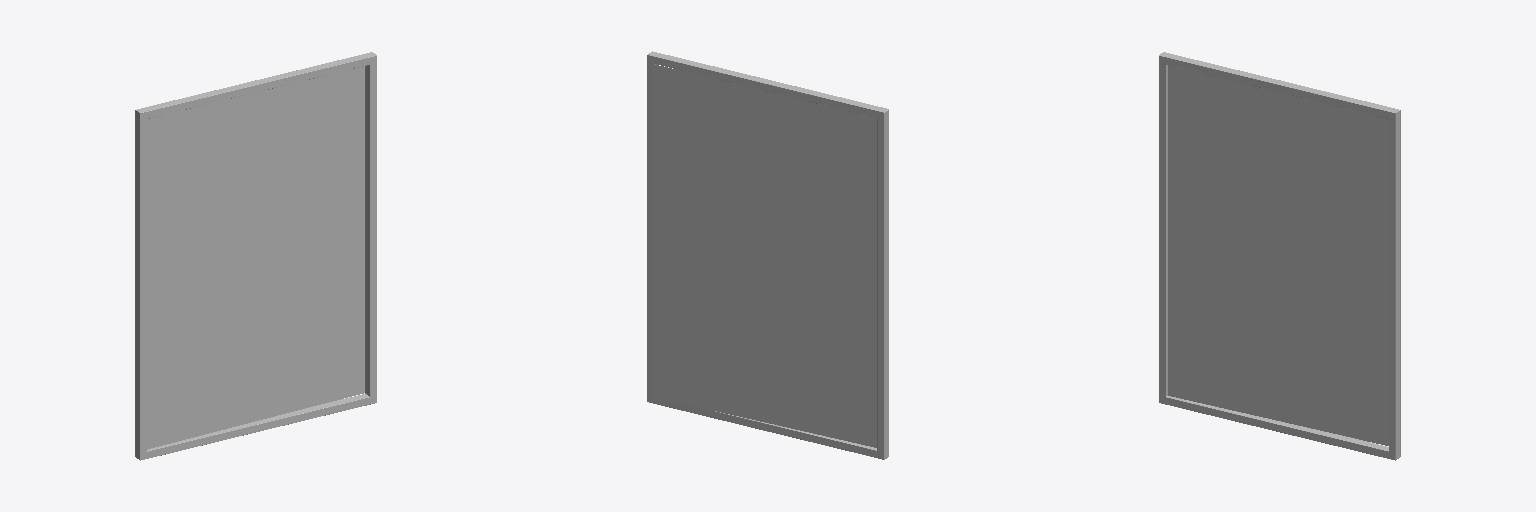
Rendered from avatar.obj.
3 renders of one model, left to right at view 1: azimuth 30°, elevation 25°; view 2: azimuth 150°, elevation 25°; view 3: azimuth 330°, elevation 25°, orthographic.
Visible parts, largest first — view 1: Assembly_Tom_Pigeon_Multi_Gold_Foil_50x70cm_PRINT_0, Assembly_Tom_Pigeon_Multi_Gold_Foil_50x70cm_FRAME_0; view 2: Assembly_Tom_Pigeon_Multi_Gold_Foil_50x70cm_PRINT_0, Assembly_Tom_Pigeon_Multi_Gold_Foil_50x70cm_FRAME_0; view 3: Assembly_Tom_Pigeon_Multi_Gold_Foil_50x70cm_PRINT_0, Assembly_Tom_Pigeon_Multi_Gold_Foil_50x70cm_FRAME_0.
Boxes of the visible parts, <box> form: Assembly_Tom_Pigeon_Multi_Gold_Foil_50x70cm_PRINT_0: <box>147,66,364,449</box>; Assembly_Tom_Pigeon_Multi_Gold_Foil_50x70cm_FRAME_0: <box>135,52,376,460</box>; Assembly_Tom_Pigeon_Multi_Gold_Foil_50x70cm_PRINT_0: <box>653,64,876,447</box>; Assembly_Tom_Pigeon_Multi_Gold_Foil_50x70cm_FRAME_0: <box>647,51,888,459</box>; Assembly_Tom_Pigeon_Multi_Gold_Foil_50x70cm_PRINT_0: <box>1168,65,1388,445</box>; Assembly_Tom_Pigeon_Multi_Gold_Foil_50x70cm_FRAME_0: <box>1159,52,1400,460</box>.
Bounding box in the file's own units: 5 × 7 × 0.212.